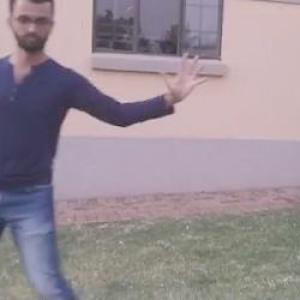follow_hand: (160, 50, 210, 101)
